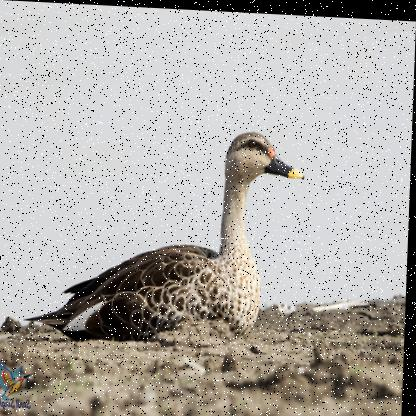Burung: (24, 120, 308, 349)
